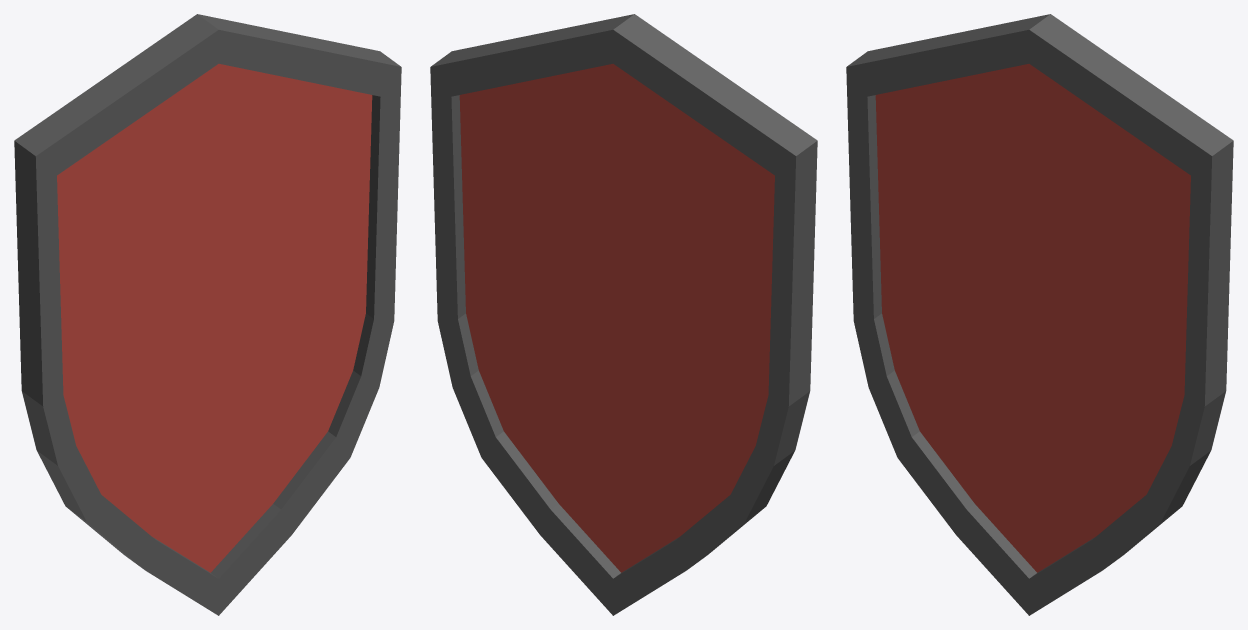
File: Shield_1_Red.fbx
3 renders of one model, left to right at view 1: azimuth 30°, elevation 25°; view 2: azimuth 150°, elevation 25°; view 3: azimuth 330°, elevation 25°, orthographic.
Visible parts, largest first — view 1: Shield_1_Red_Part_2, Shield_1_Red_Part_1; view 2: Shield_1_Red_Part_2, Shield_1_Red_Part_1; view 3: Shield_1_Red_Part_2, Shield_1_Red_Part_1.
Part boxes in pixels (bbox=[...]): Shield_1_Red_Part_2: bbox=[57, 64, 372, 572]; Shield_1_Red_Part_1: bbox=[14, 14, 401, 615]; Shield_1_Red_Part_2: bbox=[459, 64, 774, 572]; Shield_1_Red_Part_1: bbox=[430, 14, 817, 615]; Shield_1_Red_Part_2: bbox=[875, 64, 1190, 572]; Shield_1_Red_Part_1: bbox=[846, 14, 1233, 615].
Bounding box in the file's own units: 78.38 × 120 × 7.98.
